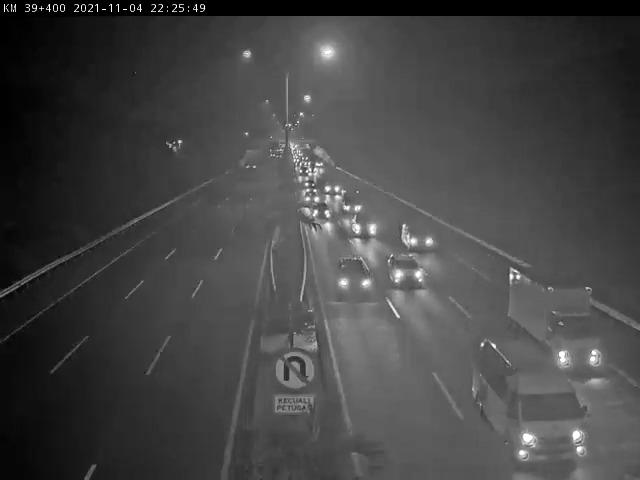car: (480, 338, 589, 465), (386, 254, 426, 293), (336, 257, 374, 297), (402, 222, 438, 254), (351, 216, 379, 241), (343, 192, 366, 216)
truck-m-: (505, 268, 608, 380)
